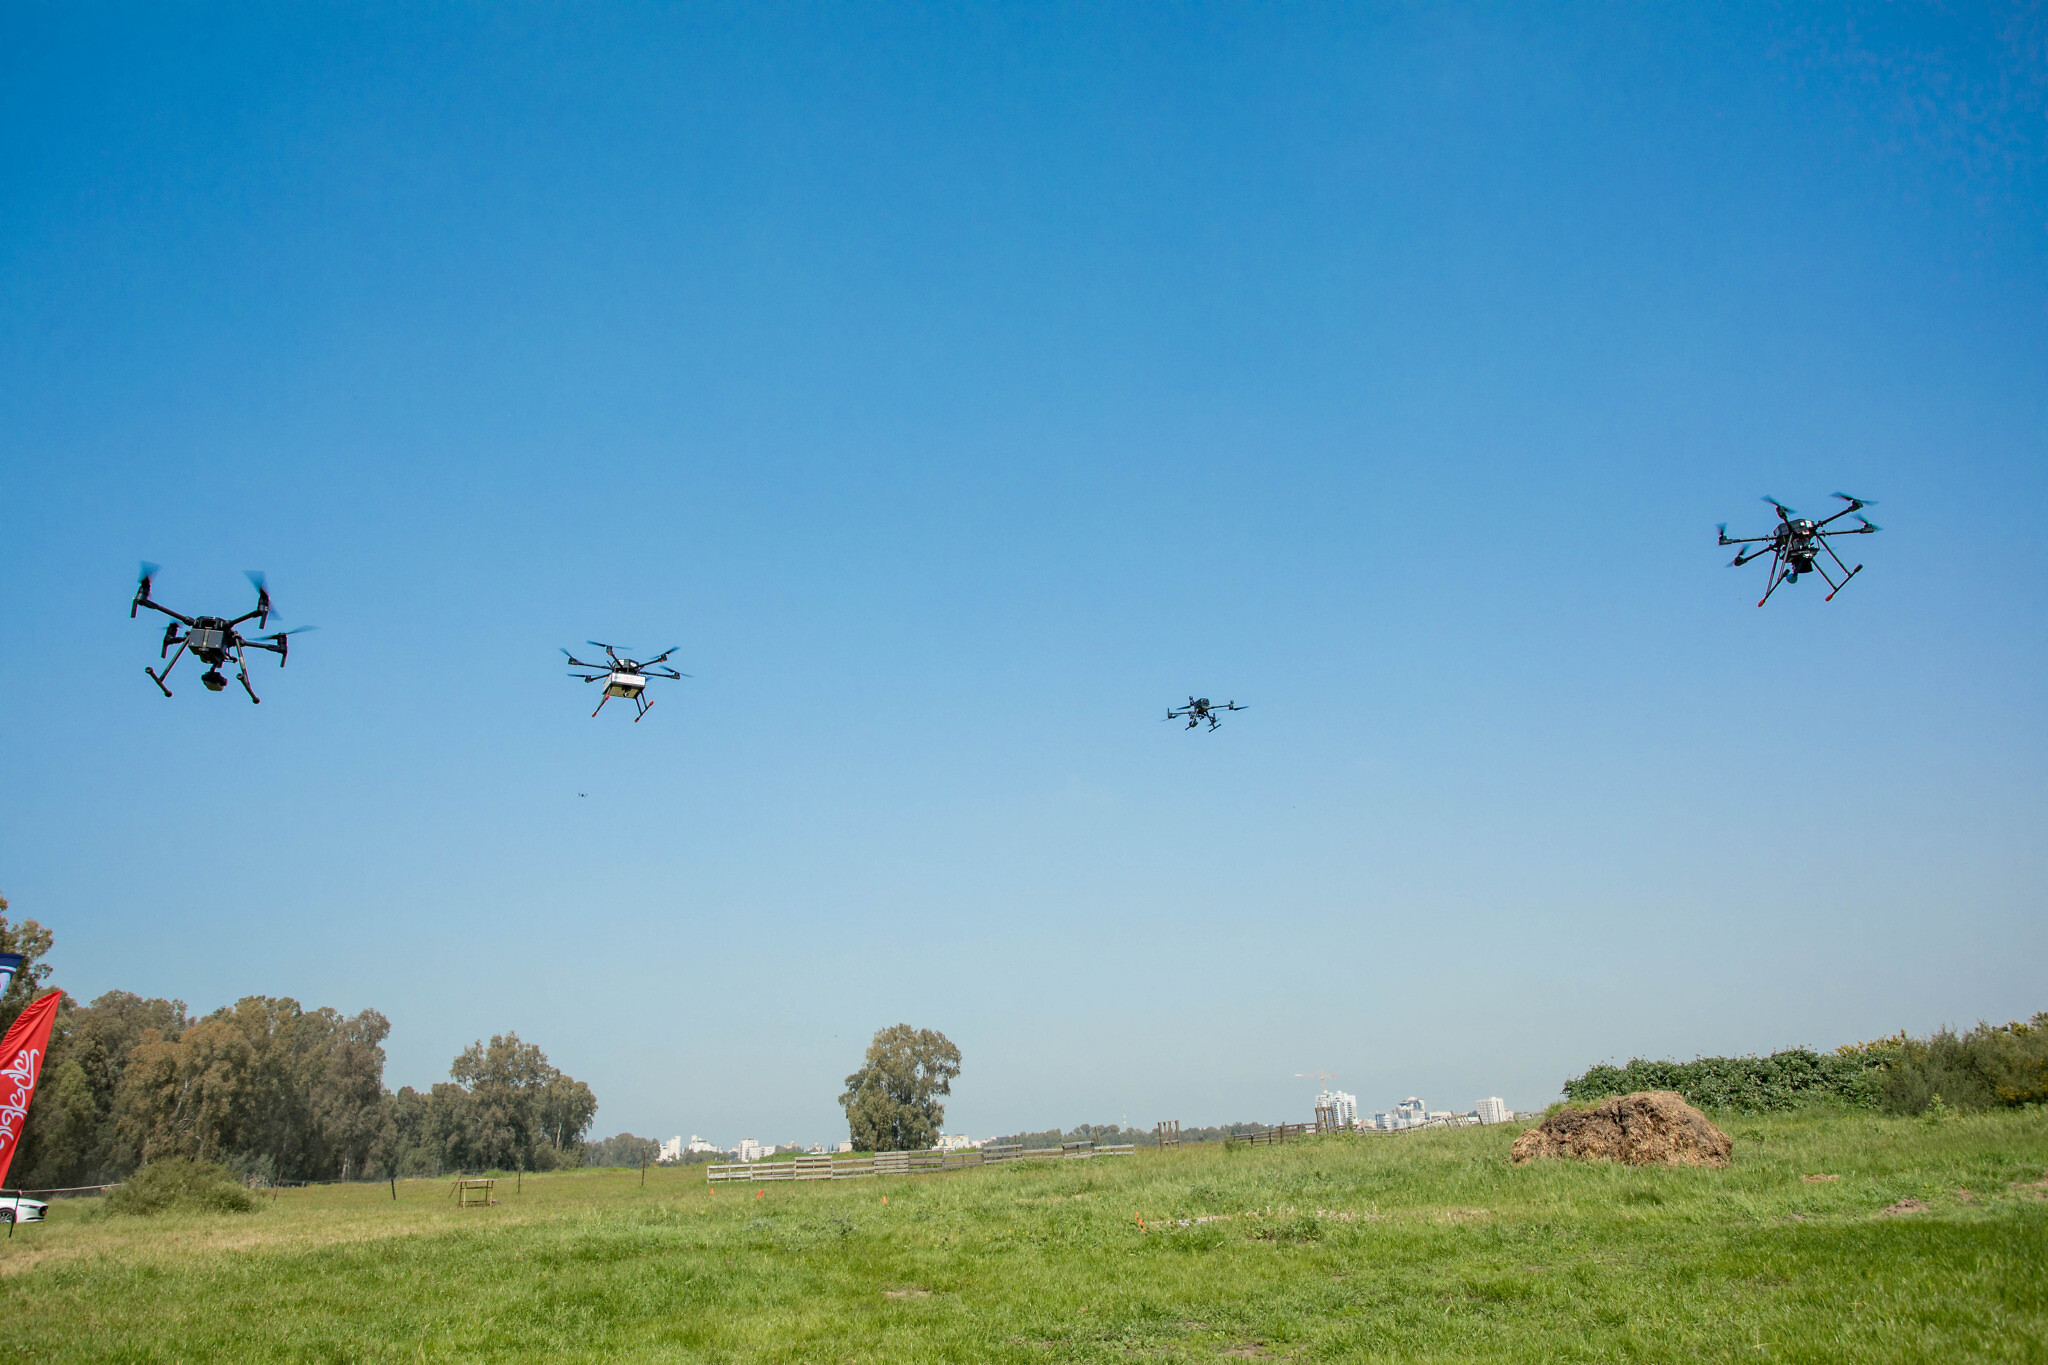drone: (117, 568, 306, 705), (1715, 491, 1882, 609), (557, 637, 691, 724), (1162, 693, 1249, 734)
